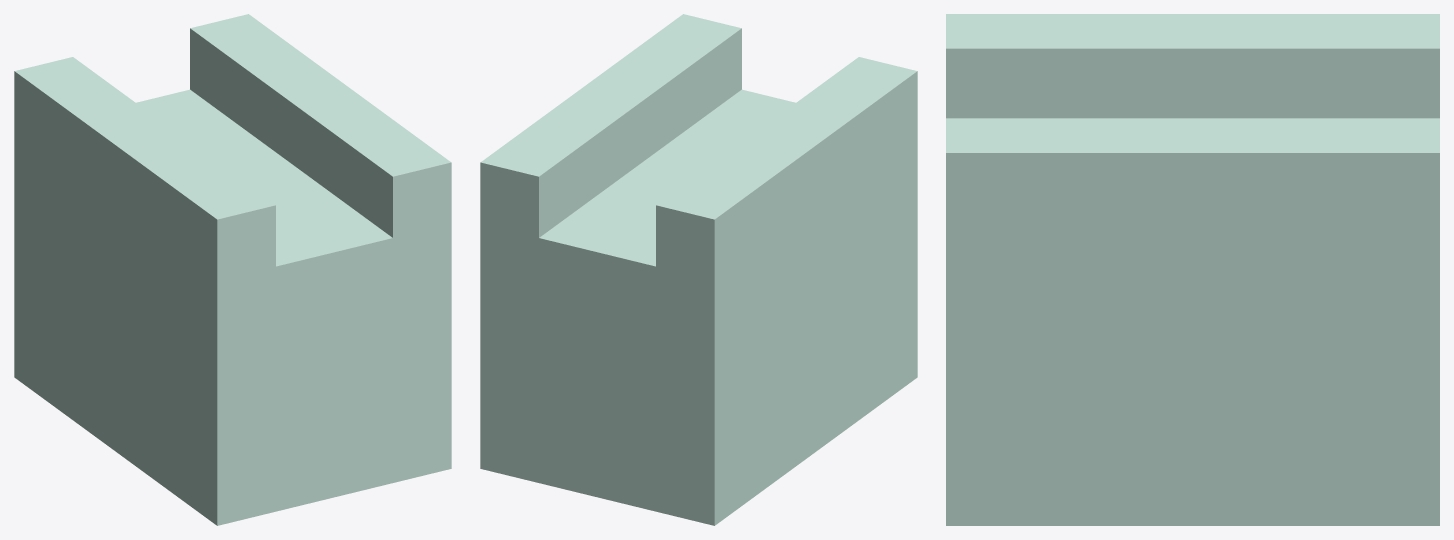
3 renders of one model, left to right at view 1: azimuth 30°, elevation 25°; view 2: azimuth 150°, elevation 25°; view 3: azimuth 270°, elevation 25°, orthographic. The views are drawn at different scales.
Visible parts, largest first — view 1: Renderer Node; view 2: Renderer Node; view 3: Renderer Node.
Boxes of the visible parts, box(x1,y1,x2,y2) form: Renderer Node: box(14, 14, 451, 525); Renderer Node: box(480, 14, 917, 525); Renderer Node: box(946, 14, 1439, 525).
Size of the model in its own units: 0.5 by 0.625 by 0.75.
